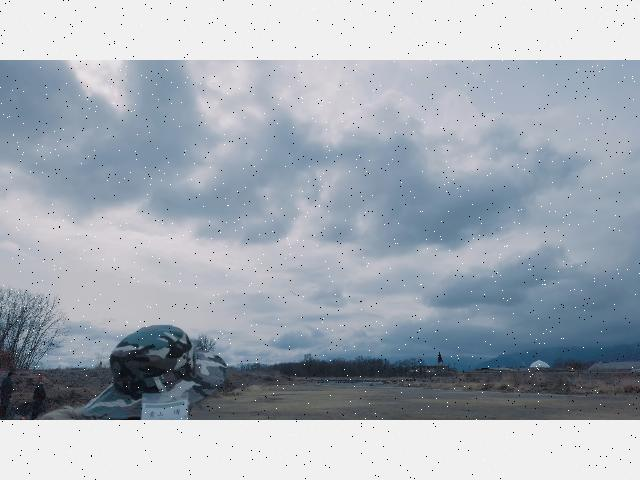Anti-Drone: (288, 289, 298, 297)
